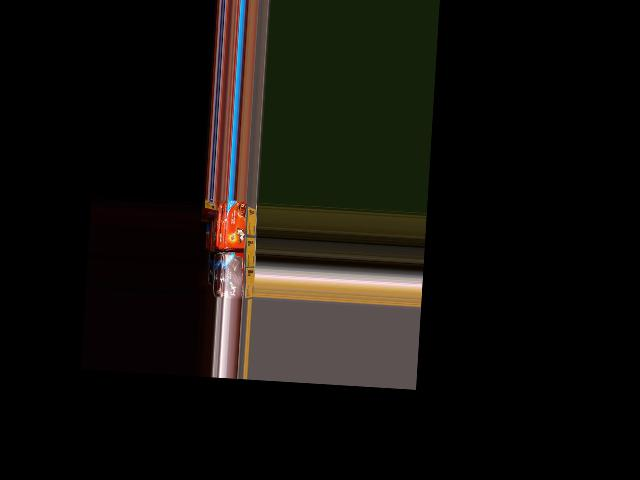chocolate: (220, 256, 249, 300)
